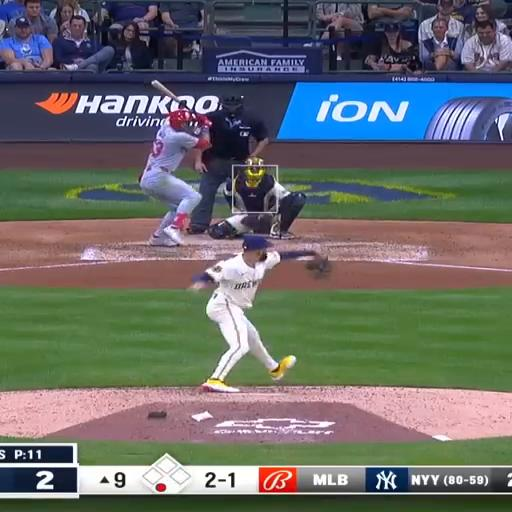bat: (151, 80, 189, 109)
